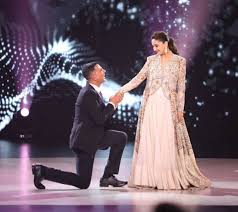Bad: (32, 32, 214, 189)
